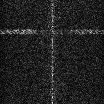wifi: (1, 28, 104, 34)
